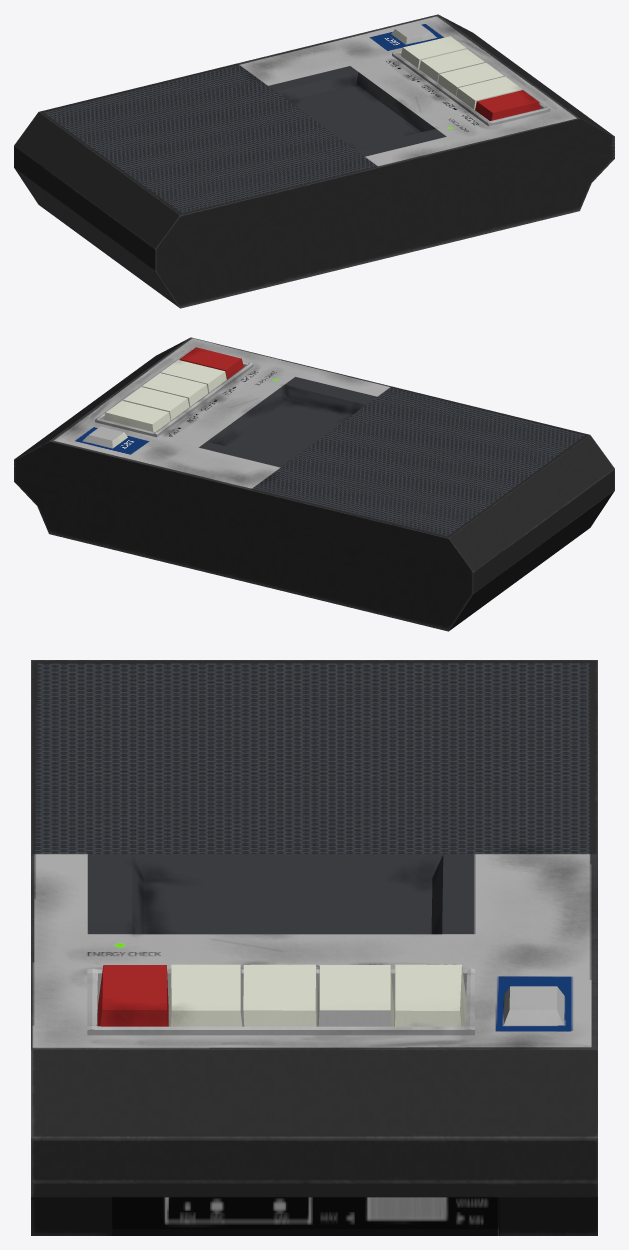
The model's file is Casette Recorder.fbx.
3 renders of one model, top to bottom at view 1: azimuth 30°, elevation 25°; view 2: azimuth 150°, elevation 25°; view 3: azimuth 270°, elevation 25°, orthographic. The views are drawn at different scales.
Parts seen in each view (by area): view 1: pCube14; view 2: pCube14; view 3: pCube14.
Part boxes in pixels (x1=…): pCube14: x1=14, y1=14, x2=614, y2=308; pCube14: x1=14, y1=337, x2=614, y2=631; pCube14: x1=31, y1=660, x2=597, y2=1235.
Size of the model in its own units: 200 by 42.34 by 107.
Materials: 1 (1 with a texture image).
